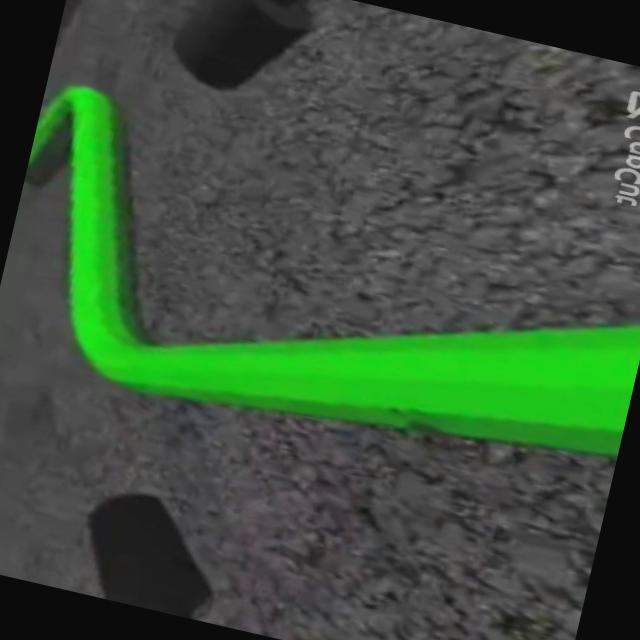gas: (155, 216, 640, 507), (14, 108, 216, 400)
